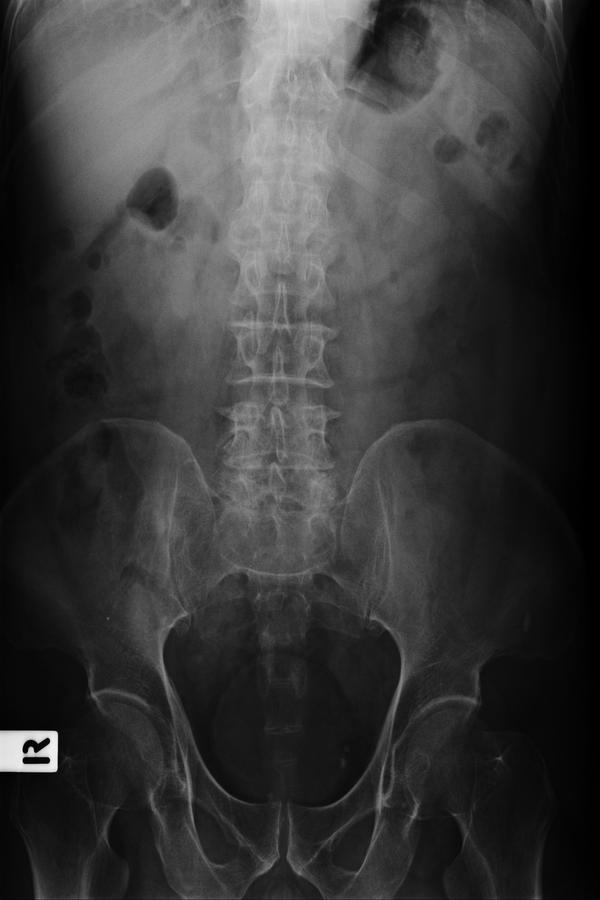lumbar scoliosis: (208, 5, 355, 548)
